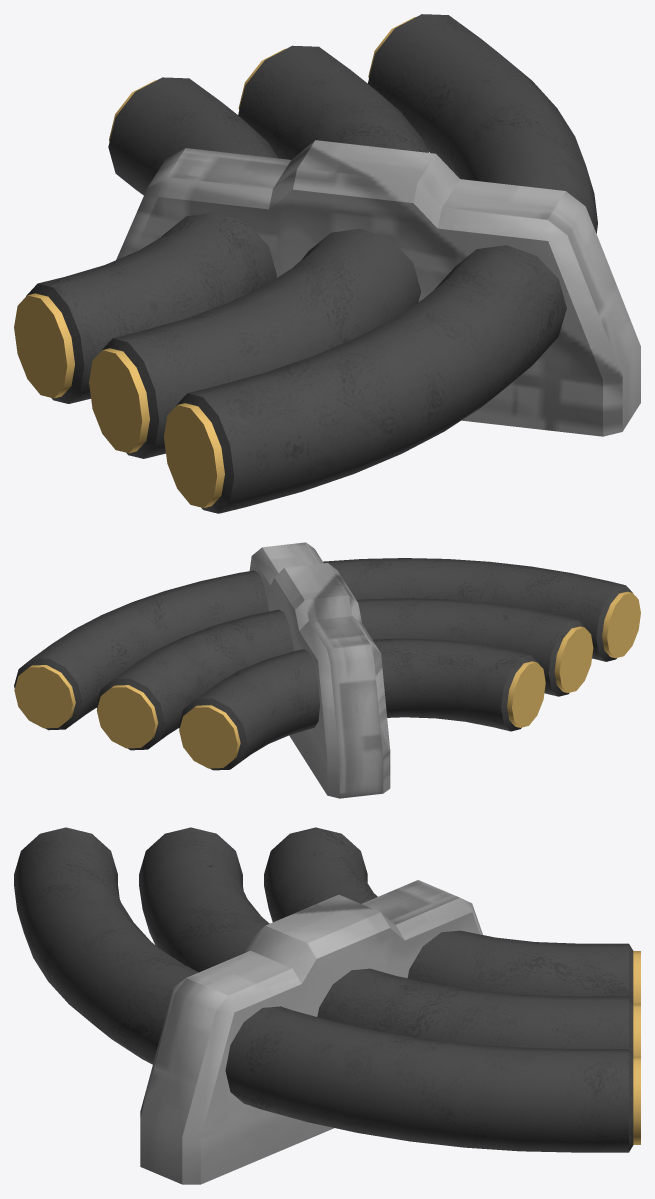
File: 3_pipes_90.fbx
The picture shows the model from 3 angles, top to bottom: view 1: azimuth 30°, elevation 25°; view 2: azimuth 150°, elevation 25°; view 3: azimuth 270°, elevation 25°; orthographic projection. The views are drawn at different scales.
Parts seen in each view (by area): view 1: 3_pipes_90; view 2: 3_pipes_90; view 3: 3_pipes_90.
Boxes of the visible parts, <box> form: 3_pipes_90: <box>14,14,640,513</box>; 3_pipes_90: <box>14,542,640,798</box>; 3_pipes_90: <box>14,827,640,1184</box>.
Size of the model in its own units: 289 by 100 by 302.
